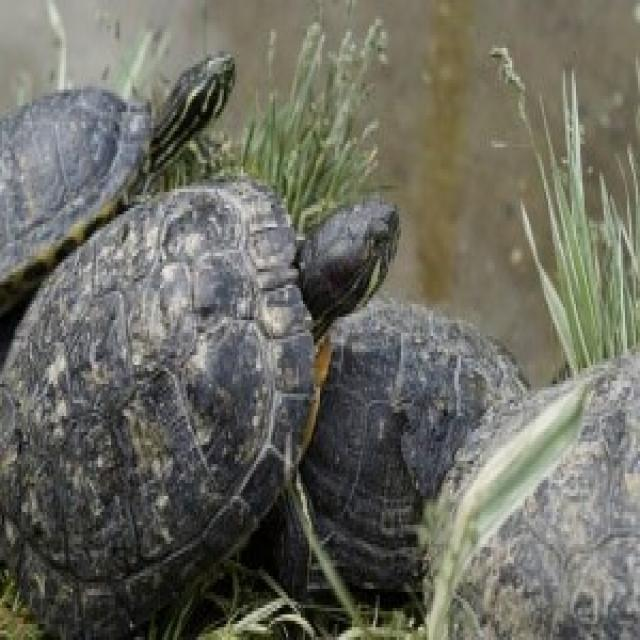Sea turtle: (8, 188, 403, 573), (413, 365, 640, 633), (0, 48, 235, 285), (273, 333, 522, 551)
